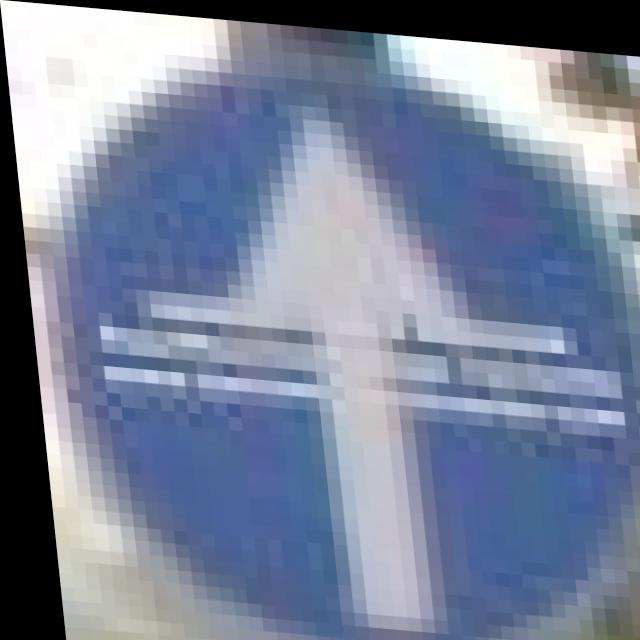COMPULSORY_AHEAD: (30, 57, 640, 640)
